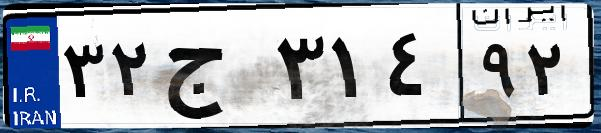1: (330, 28, 385, 110)
2: (525, 38, 570, 115), (110, 28, 158, 98)
3: (270, 28, 330, 110), (57, 26, 110, 100)
4: (385, 28, 445, 110)
9: (475, 38, 525, 113)
ج: (158, 20, 270, 120)
